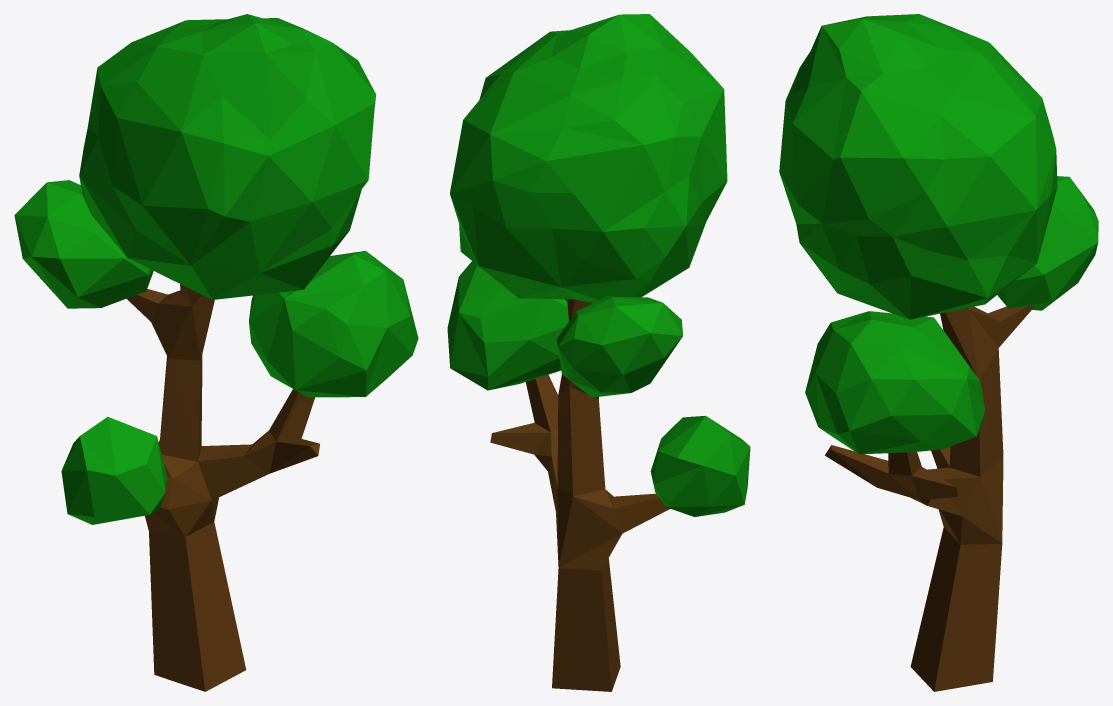
File: tree.obj
3 renders of one model, left to right at view 1: azimuth 30°, elevation 25°; view 2: azimuth 150°, elevation 25°; view 3: azimuth 270°, elevation 25°, orthographic. The views are drawn at different scales.
Visible parts, largest first — view 1: Tree1_Cube.020; view 2: Tree1_Cube.020; view 3: Tree1_Cube.020.
Part boxes in pixels (<box>): Tree1_Cube.020: <box>14,14,418,691</box>; Tree1_Cube.020: <box>447,14,750,691</box>; Tree1_Cube.020: <box>779,14,1098,691</box>.
Bounding box in the file's own units: 11.61 × 23.64 × 10.38.
